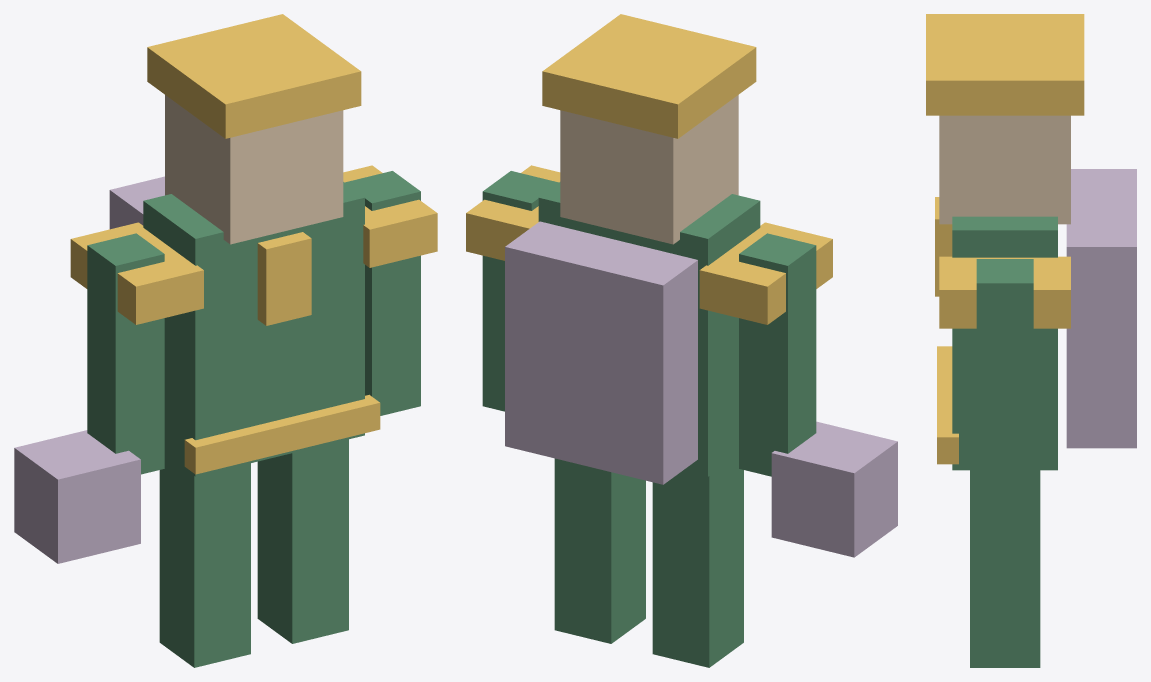
Rendered from 12_dax_gearmantle_custodian_at_hall.glb.
3 renders of one model, left to right at view 1: azimuth 30°, elevation 25°; view 2: azimuth 150°, elevation 25°; view 3: azimuth 270°, elevation 25°, orthographic.
Parts seen in each view (by area): view 1: Dax Gearmantle, Custodian at Hall; view 2: Dax Gearmantle, Custodian at Hall; view 3: Dax Gearmantle, Custodian at Hall.
Part boxes in pixels (<box>): Dax Gearmantle, Custodian at Hall: <box>14,14,437,667</box>; Dax Gearmantle, Custodian at Hall: <box>466,14,897,667</box>; Dax Gearmantle, Custodian at Hall: <box>926,14,1136,667</box>.
Size of the model in its own units: 0.9868 by 1.45 by 0.4761.
